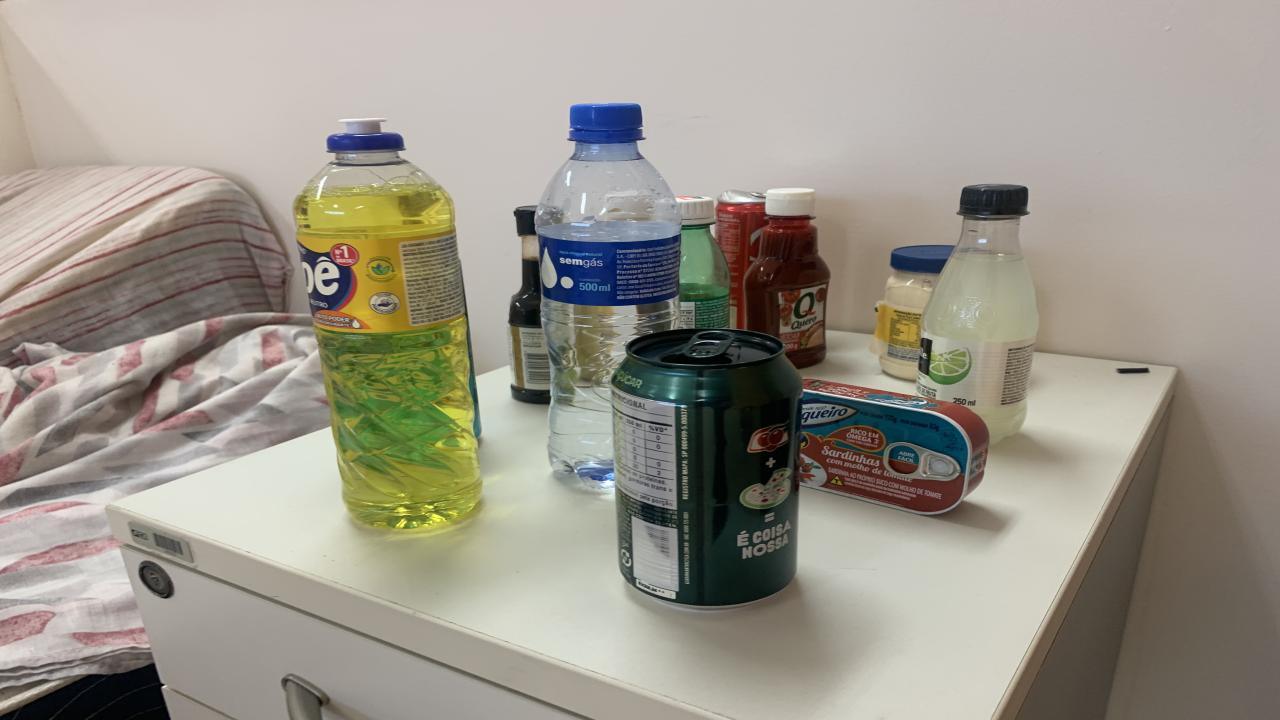Coke-Drinks: (715, 189, 765, 328)
Detergent-Cleanup_Items: (292, 120, 482, 529)
English_Sauce-Pantry_Items: (508, 206, 550, 403)
Guarana-Drinks: (678, 197, 730, 328)
Guarana_Can-Drinks: (612, 328, 802, 608)
Ketchup-Pantry_Items: (745, 188, 830, 368)
Mayonnaise-Pantry_Items: (870, 246, 952, 381)
Soda-Drinks: (915, 186, 1038, 442)
Tuna_Can-Pantry_Items: (800, 379, 990, 514)
Water_Bottle-Drinks: (535, 105, 680, 488)
